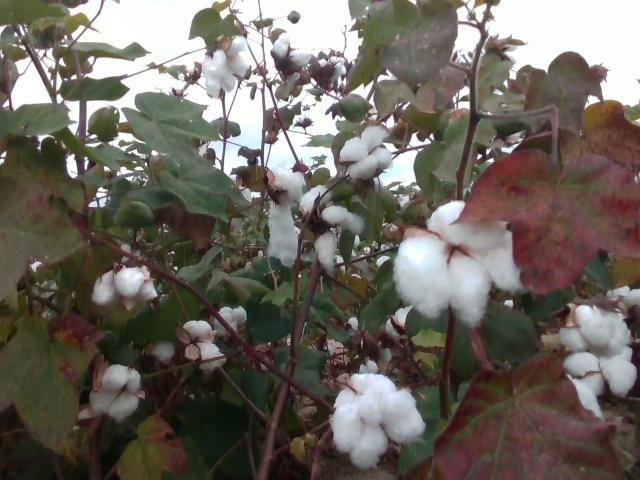cotton_ready: (397, 201, 528, 325), (332, 376, 425, 471), (562, 306, 638, 397), (301, 184, 364, 276), (264, 162, 305, 267), (87, 365, 142, 422), (92, 263, 157, 311), (203, 34, 249, 99), (339, 126, 390, 181), (178, 321, 226, 370), (271, 32, 312, 73), (212, 306, 247, 335)
